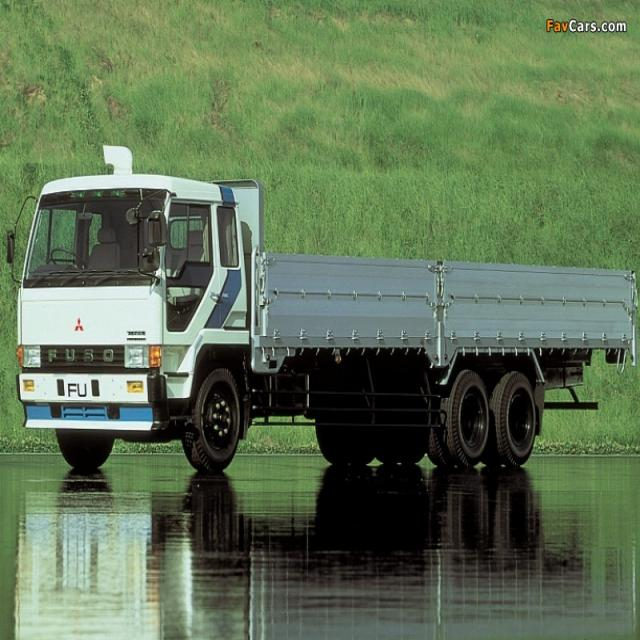truck: (9, 143, 631, 469)
